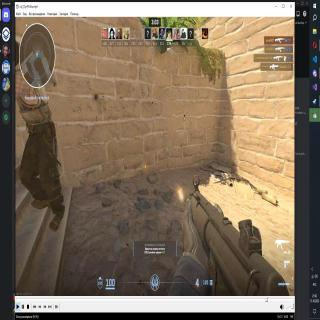T-Body: (17, 60, 63, 226)
T-Head: (16, 40, 24, 68)
